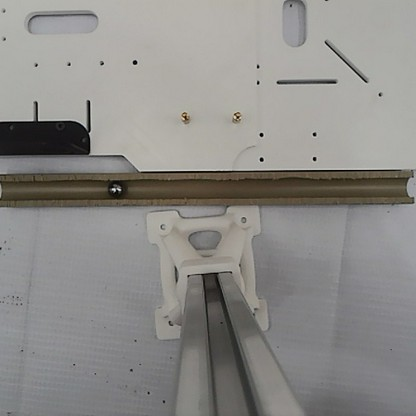ironball: (106, 180, 124, 197)
